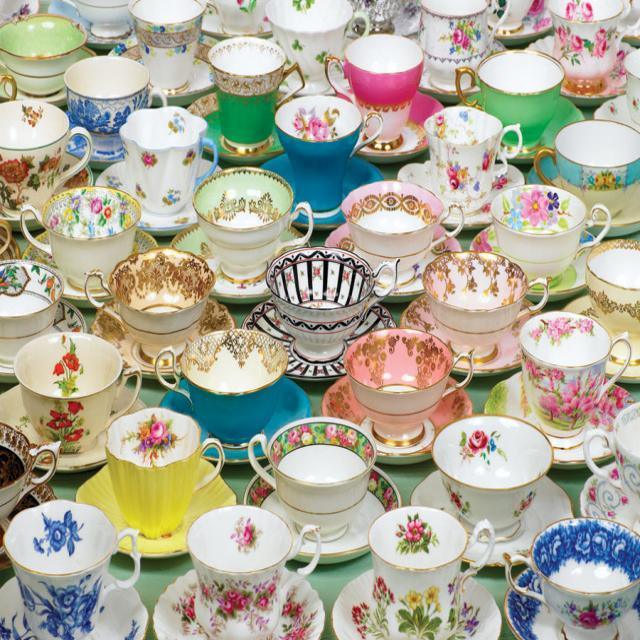cup: (1, 491, 151, 640)
